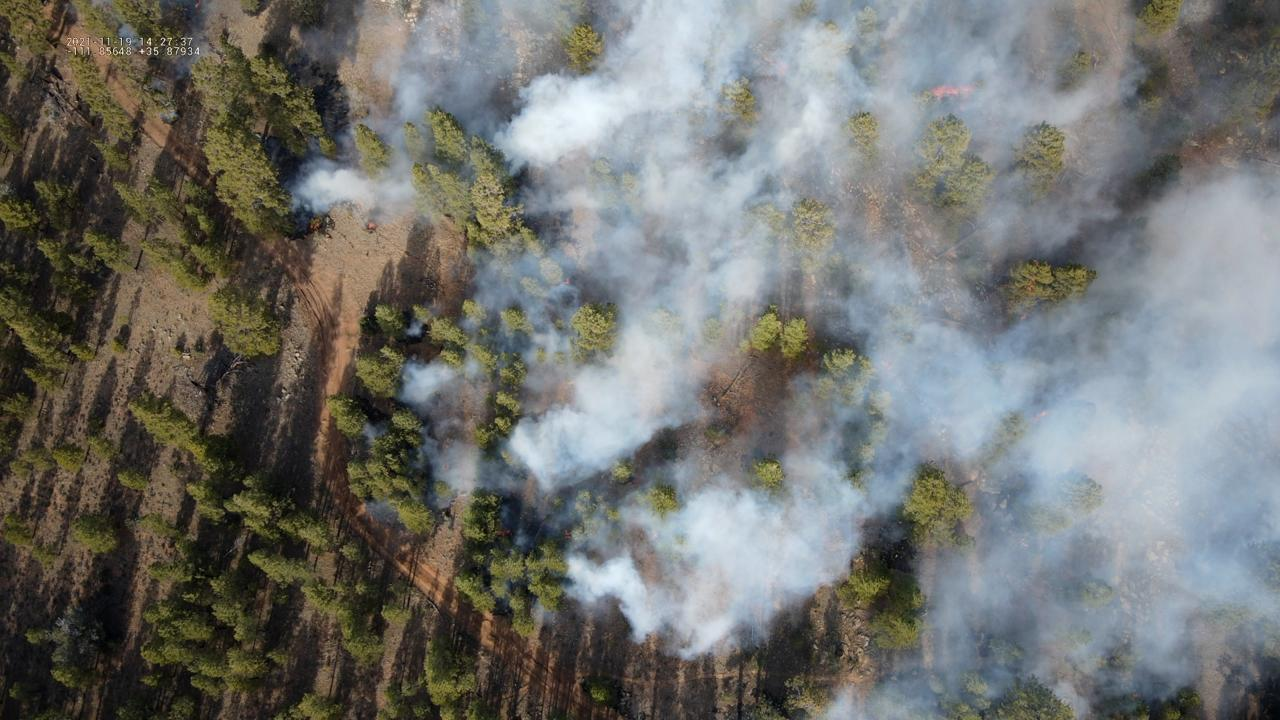fire: (930, 84, 971, 98), (311, 216, 323, 230), (1034, 409, 1047, 421), (498, 528, 512, 536), (194, 0, 202, 10), (368, 221, 376, 229), (564, 277, 572, 285), (565, 530, 571, 539)
smoke: (287, 0, 1280, 720), (175, 0, 216, 81), (115, 23, 139, 46)
